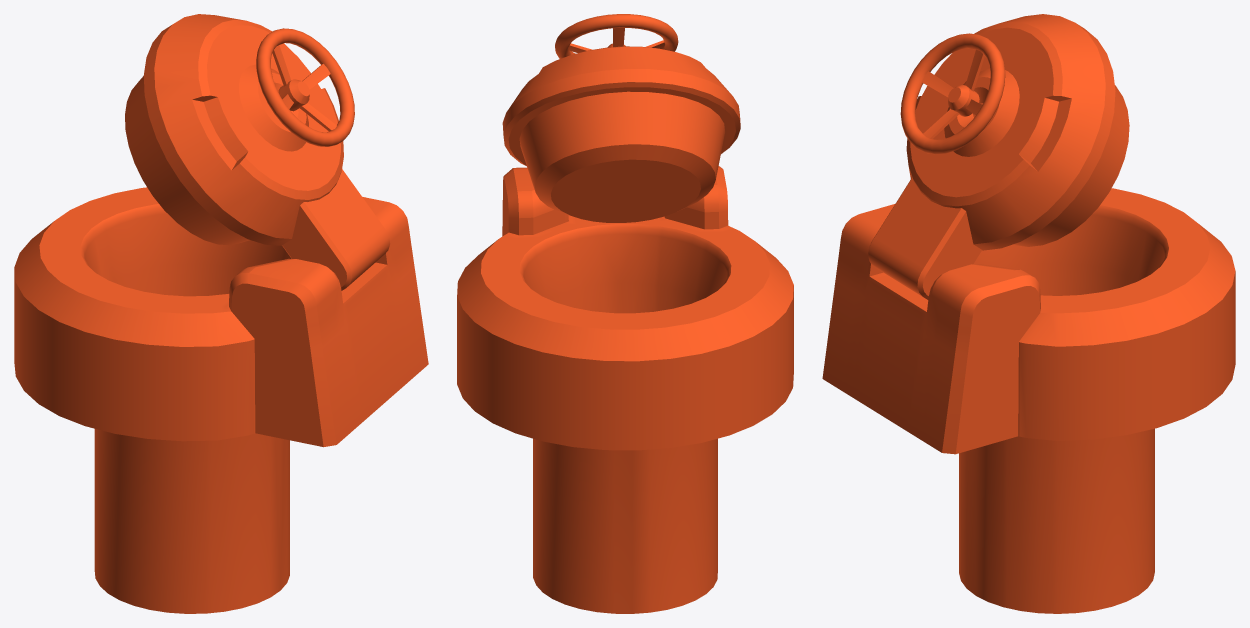
File: BunkerDoor.fbx
The picture shows the model from 3 angles, left to right: view 1: azimuth 30°, elevation 25°; view 2: azimuth 150°, elevation 25°; view 3: azimuth 270°, elevation 25°; orthographic projection. The views are drawn at different scales.
Parts seen in each view (by area): view 1: Frame.Mesh, Lid.Mesh, LidHandle.Mesh; view 2: Frame.Mesh, Lid.Mesh, LidHandle.Mesh; view 3: Frame.Mesh, Lid.Mesh, LidHandle.Mesh.
Boxes of the visible parts, x1=… form: Frame.Mesh: x1=14, y1=187, x2=428, y2=613; Lid.Mesh: x1=125, y1=14, x2=390, y2=290; LidHandle.Mesh: x1=256, y1=28, x2=354, y2=146; Frame.Mesh: x1=457, y1=166, x2=793, y2=613; Lid.Mesh: x1=502, y1=46, x2=740, y2=222; LidHandle.Mesh: x1=555, y1=14, x2=678, y2=58; Frame.Mesh: x1=822, y1=188, x2=1235, y2=613; Lid.Mesh: x1=868, y1=14, x2=1129, y2=299; LidHandle.Mesh: x1=900, y1=33, x2=1005, y2=154.
Bounding box in the file's own units: 1.98 × 3.12 × 2.1.
